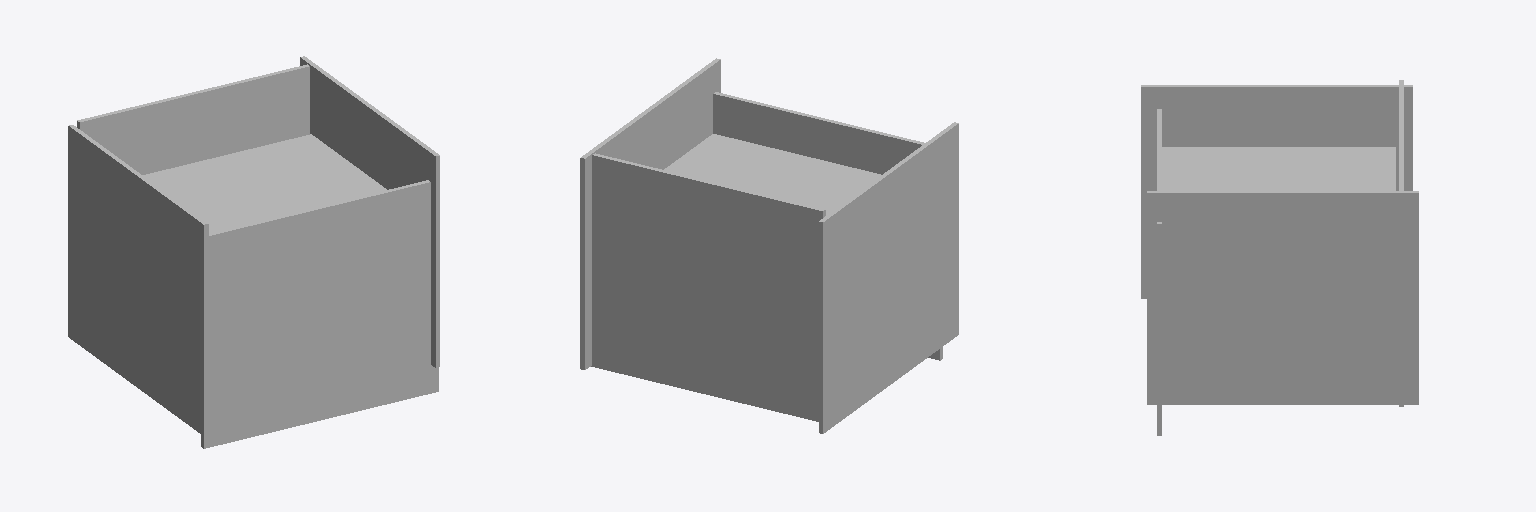
File: bratBox.obj
3 views of the same model, side by side, from view 1: azimuth 30°, elevation 25°; view 2: azimuth 150°, elevation 25°; view 3: azimuth 270°, elevation 25° (orthographic).
Visible parts, largest first — view 1: Cube.002, Cube.004, Cube.003, Cube.001, Cube.005; view 2: Cube.003, Cube.004, Cube.005, Cube.001, Cube.002; view 3: Cube.005, Cube.004, Cube.001, Cube.002, Cube.003.
Boxes of the visible parts, x1=… form: Cube.002: x1=201, y1=180, x2=438, y2=448; Cube.004: x1=68, y1=125, x2=208, y2=435; Cube.003: x1=77, y1=64, x2=309, y2=174; Cube.001: x1=143, y1=134, x2=386, y2=232; Cube.005: x1=300, y1=56, x2=439, y2=367; Cube.003: x1=591, y1=153, x2=825, y2=421; Cube.004: x1=819, y1=122, x2=958, y2=433; Cube.005: x1=580, y1=58, x2=720, y2=369; Cube.001: x1=664, y1=134, x2=880, y2=215; Cube.002: x1=713, y1=92, x2=942, y2=360; Cube.005: x1=1147, y1=191, x2=1418, y2=404; Cube.004: x1=1141, y1=85, x2=1412, y2=298; Cube.001: x1=1162, y1=147, x2=1395, y2=190; Cube.002: x1=1157, y1=109, x2=1161, y2=435; Cube.003: x1=1399, y1=80, x2=1403, y2=406.
Size of the model in its own units: 13.05 by 12.35 by 12.92.